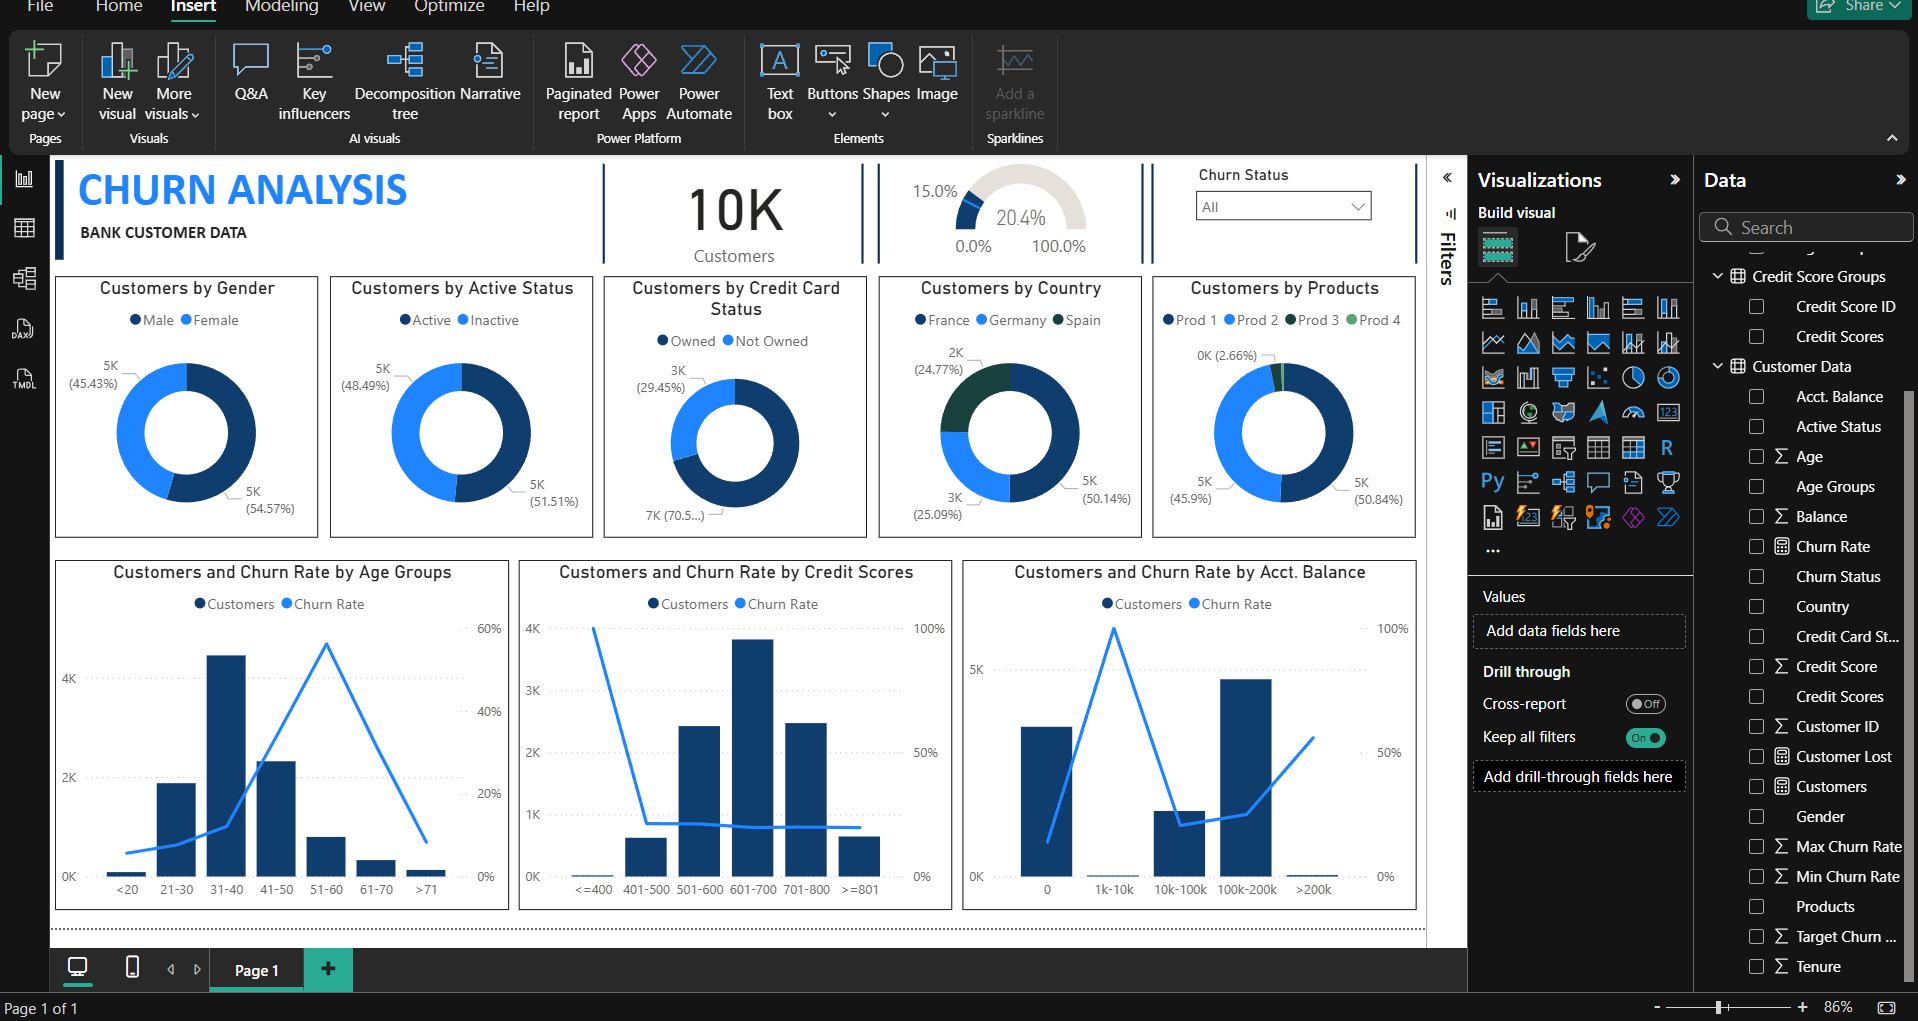

The page's visual inventory and layout, read from the dashboard file:
{"tool":"powerbi","page":{"name":"Page 1","canvas":[1280,720],"ordinal":0},"visuals":[{"type":"card","fields":{"Values":["Customer Data.Customers"]},"box":[554.7,3.5,164,103.5],"z":0},{"type":"donutChart","fields":{"Category":["Customer Data.Gender"],"Y":["Customer Data.Customers"]},"box":[4.7,112.3,245,243],"z":1000},{"type":"donutChart","fields":{"Category":["Customer Data.Active Status"],"Y":["Customer Data.Customers"]},"box":[259.9,112.3,245,243],"z":2000},{"type":"donutChart","fields":{"Category":["Customer Data.Credit Card Status"],"Y":["Customer Data.Customers"]},"box":[515.1,112.3,245,243],"z":3000},{"type":"donutChart","fields":{"Y":["Customer Data.Customers"],"Category":["Customer Data.Country"]},"box":[770.4,112.3,245,243],"z":4000},{"type":"donutChart","fields":{"Category":["Customer Data.Products"],"Y":["Customer Data.Customers"]},"box":[1025.6,112.3,245,243],"z":5000},{"type":"lineStackedColumnComboChart","fields":{"Category":["Age Groups.Age Groups"],"Y":["Customer Data.Customers"],"Y2":["Customer Data.Churn Rate"]},"box":[4.7,376.7,422.1,325.6],"z":6000},{"type":"lineStackedColumnComboChart","fields":{"Y":["Customer Data.Customers"],"Y2":["Customer Data.Churn Rate"],"Category":["Credit Score Groups.Credit Scores"]},"box":[436,376.7,403.5,325.6],"z":7000},{"type":"lineStackedColumnComboChart","fields":{"Y":["Customer Data.Customers"],"Y2":["Customer Data.Churn Rate"],"Category":["Acct Balance Groups.Acct. Balance"]},"box":[848.8,376.7,422.1,325.6],"z":8000},{"type":"slicer","fields":{"Values":["Customer Data.Churn Status"]},"box":[1055.8,4.7,183.7,102.3],"z":9000},{"type":"gauge","fields":{"MaxValue":["Max(Customer Data.Max Churn Rate)"],"MinValue":["Min(Customer Data.Min Churn Rate)"],"Y":["Customer Data.Churn Rate"],"TargetValue":["Max(Customer Data.Target Churn Rate)"]},"box":[786,3.5,189.5,102.3],"z":10000},{"type":"textbox","box":[21,0,327.9,67.4],"z":11000},{"type":"textbox","box":[23.3,57,174.4,40.7],"z":12000},{"type":"shape","box":[500,8.1,30.2,93],"z":13000},{"type":"shape","box":[740.7,8.1,30.2,93],"z":14000},{"type":"shape","box":[755.8,8.1,30.2,93],"z":14001},{"type":"shape","box":[1001.2,8.1,30.2,93],"z":14002},{"type":"shape","box":[1010.5,8.1,30.2,93],"z":14003},{"type":"shape","box":[1261.6,8.1,18.6,93],"z":14004},{"type":"shape","box":[0,0,12.8,107],"z":14005}]}

Visuals, with their boxes on the page's 1280x720 design canvas (x1, y1, x2, y2). These are canvas units, not pixel positions in the 1918x1021 screenshot, which may show the page scaled, cropped or inside an application window:
card - Customer Data.Customers: 555/4/719/107
donutChart - Customer Data.Gender x Customer Data.Customers: 5/112/250/355
donutChart - Customer Data.Active Status x Customer Data.Customers: 260/112/505/355
donutChart - Customer Data.Credit Card Status x Customer Data.Customers: 515/112/760/355
donutChart - Customer Data.Customers x Customer Data.Country: 770/112/1015/355
donutChart - Customer Data.Products x Customer Data.Customers: 1026/112/1271/355
lineStackedColumnComboChart - Age Groups.Age Groups x Customer Data.Customers: 5/377/427/702
lineStackedColumnComboChart - Customer Data.Customers x Customer Data.Churn Rate: 436/377/840/702
lineStackedColumnComboChart - Customer Data.Customers x Customer Data.Churn Rate: 849/377/1271/702
slicer - Customer Data.Churn Status: 1056/5/1240/107
gauge - Max(Customer Data.Max Churn Rate) x Min(Customer Data.Min Churn Rate): 786/4/976/106
textbox: 21/0/349/67
textbox: 23/57/198/98
shape: 500/8/530/101
shape: 741/8/771/101
shape: 756/8/786/101
shape: 1001/8/1031/101
shape: 1010/8/1041/101
shape: 1262/8/1280/101
shape: 0/0/13/107
